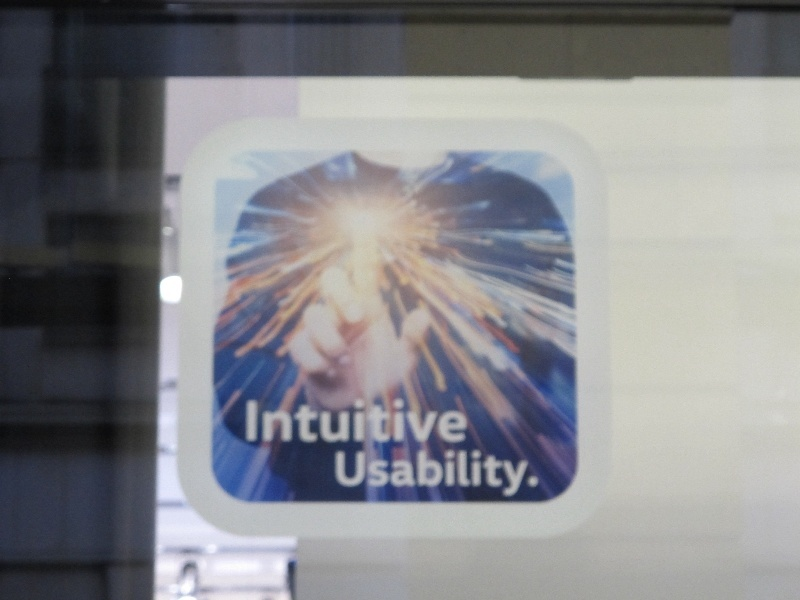text: (337, 450, 352, 501), (353, 450, 368, 501), (369, 450, 384, 501), (385, 450, 400, 501), (401, 450, 416, 501), (417, 450, 432, 501), (433, 450, 448, 501), (449, 450, 464, 501), (465, 450, 480, 501), (481, 450, 496, 501), (497, 450, 512, 501), (513, 450, 528, 501), (257, 399, 272, 444), (273, 399, 288, 444), (289, 399, 304, 444), (305, 399, 320, 444), (321, 399, 336, 444), (337, 399, 352, 444), (353, 399, 368, 444), (369, 399, 384, 444), (385, 399, 400, 444), (401, 399, 416, 444), (417, 399, 432, 444), (433, 399, 448, 444), (449, 399, 464, 444), (529, 450, 540, 501), (245, 399, 256, 444), (465, 399, 469, 444), (334, 450, 336, 501)
